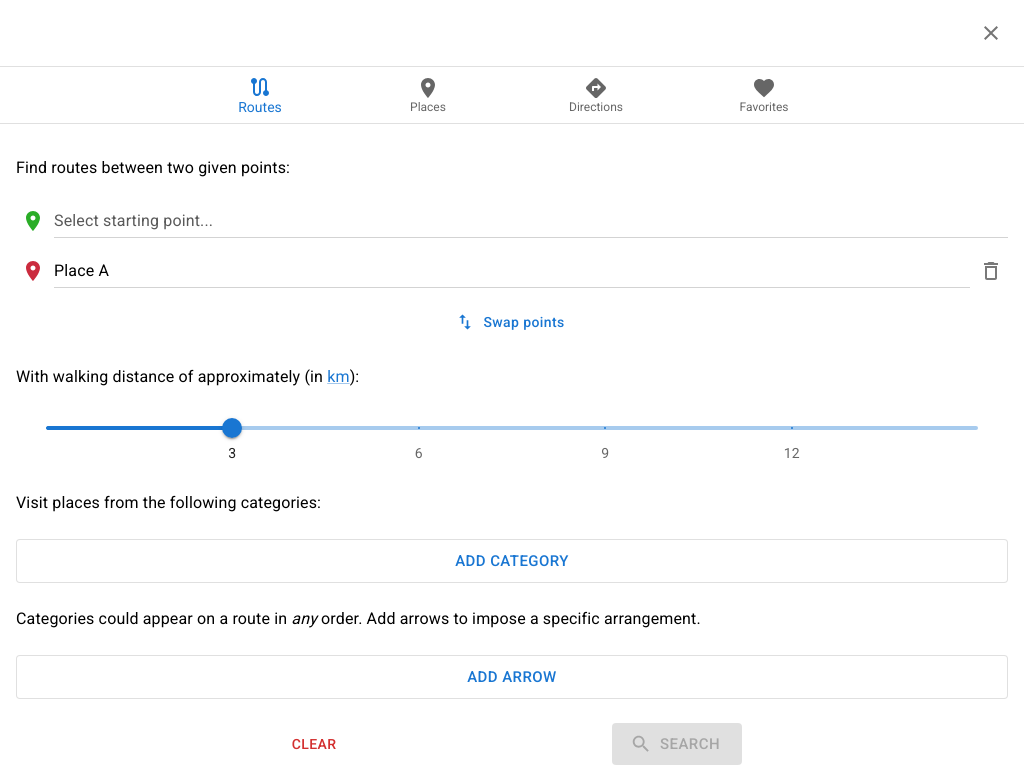
Test: <SearchRoutesPanel /> › target box › should remove added location upon clicking on the Remove
What coordinates should you click on to do the following:
click the button named "Remove point"
I would click on:
 (991, 271)
Its box is 974,254 -> 1008,288.
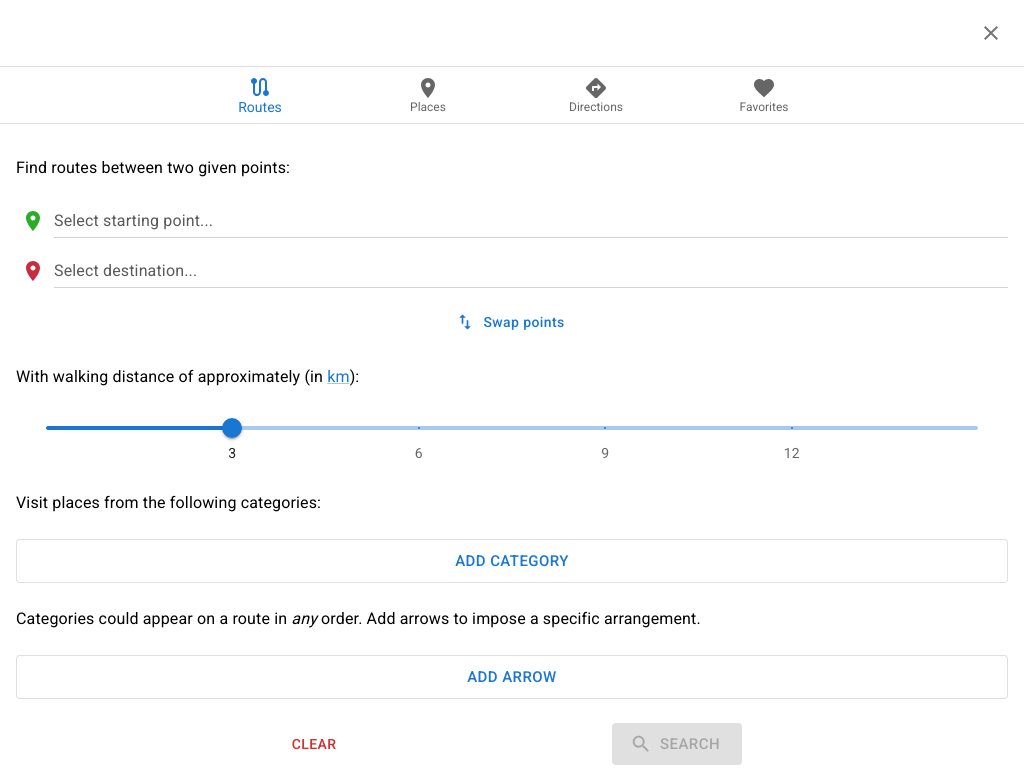
Result: the text "Select destination..." is shown at 54,258 -> 197,282
